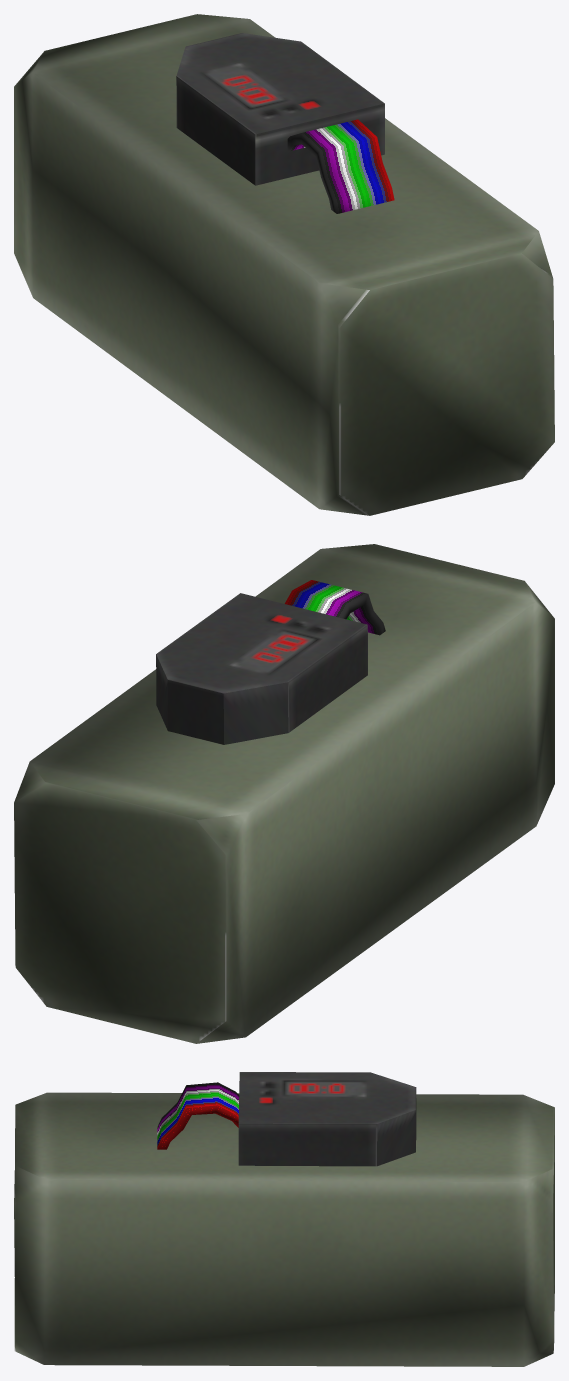
The model's file is c4-planted.glb.
3 views of the same model, one above another, from view 1: azimuth 30°, elevation 25°; view 2: azimuth 150°, elevation 25°; view 3: azimuth 270°, elevation 25° (orthographic). The views are drawn at different scales.
Parts seen in each view (by area): view 1: c4 dropped; view 2: c4 dropped; view 3: c4 dropped.
Part boxes in pixels (box(x1,y1,x2,y2)): c4 dropped: box(14, 14, 554, 515); c4 dropped: box(14, 544, 554, 1043); c4 dropped: box(14, 1072, 554, 1366).
Bounding box in the file's own units: 0.1318 × 0.1603 × 0.3404.
3 materials, 3 textured.
